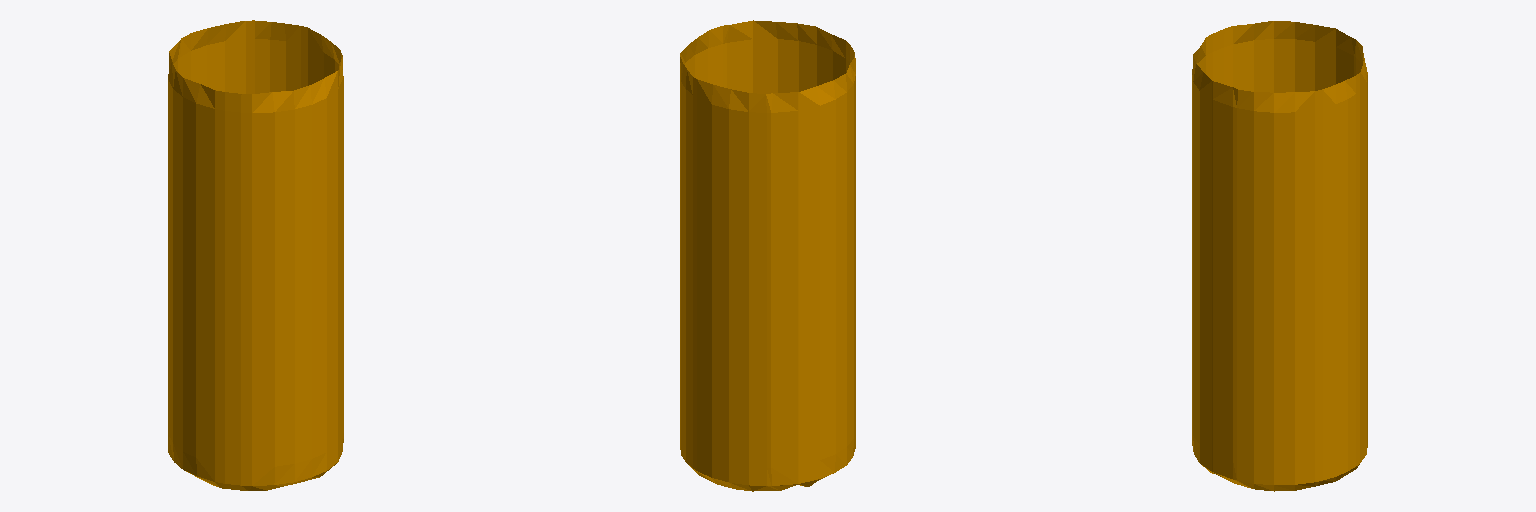
robot.urdf — cylinder_../../meshes/cylinders/cylinder_19.stl:
<?xml version="1.0" encoding="utf-8"?>  <robot name="cylinder_../../meshes/cylinders/cylinder_19.stl">   <link name="cylinder_../../meshes/cylinders/cylinder_19.stl">     <visual>       <geometry>         <mesh filename="../meshes/cylinders/cylinder_19.stl" scale="1 1 1"/>       </geometry>     </visual>     <collision>       <geometry>         <mesh filename="../meshes/cylinders/cylinder_19.stl" scale="1 1 1"/>       </geometry>     </collision>     <inertial>        <origin         xyz="0 0 0"         rpy="0 0 0" />       <mass value="0.1526096634035292"/>       <origin rpy="0 0 0" xyz="0 0 0"/>       <inertia ixx="6.876424786836724e-05" ixy="-2.9145567878674375e-08" ixz="5.6163551485700516e-08" iyy="6.87644610137197e-05" iyz="1.5113673590110186e-08" izz="3.434386368785154e-05"/>     </inertial>   </link>  </robot>

--- Render facts (derived) ---
3 views of the same robot in one strip: view 1: azimuth 30°, elevation 25°; view 2: azimuth 150°, elevation 25°; view 3: azimuth 270°, elevation 25° (orthographic).
Robot: cylinder_../../meshes/cylinders/cylinder_19.stl — 1 links, 0 joints (none); root link cylinder_../../meshes/cylinders/cylinder_19.stl; default pose: all joints at 0.
Visible links, largest first — view 1: cylinder_../../meshes/cylinders/cylinder_19.stl; view 2: cylinder_../../meshes/cylinders/cylinder_19.stl; view 3: cylinder_../../meshes/cylinders/cylinder_19.stl.
Boxes of the visible links, x1,y1,x2,y2 form: cylinder_../../meshes/cylinders/cylinder_19.stl: (168, 20, 343, 490); cylinder_../../meshes/cylinders/cylinder_19.stl: (680, 20, 855, 491); cylinder_../../meshes/cylinders/cylinder_19.stl: (1192, 21, 1367, 491).
Size in the robot's own frame: 0.0427 by 0.0427 by 0.1081 metres.
Meshes: 1 distinct files referenced, 1 mesh visuals loaded (1 binary STL).